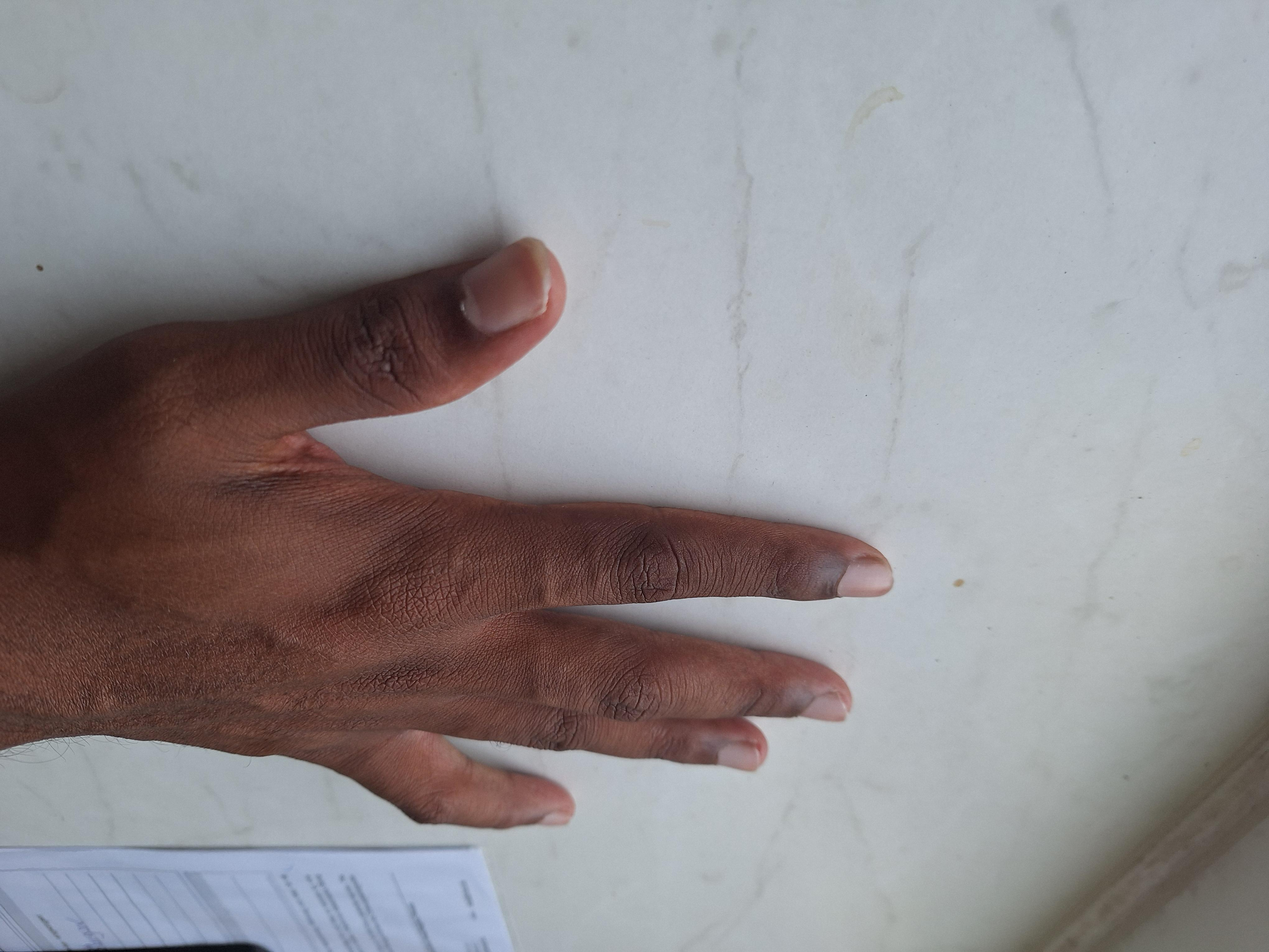Fingernail: (464, 237, 551, 334), (838, 558, 892, 598), (801, 693, 847, 721), (718, 742, 759, 772), (541, 810, 570, 825)
